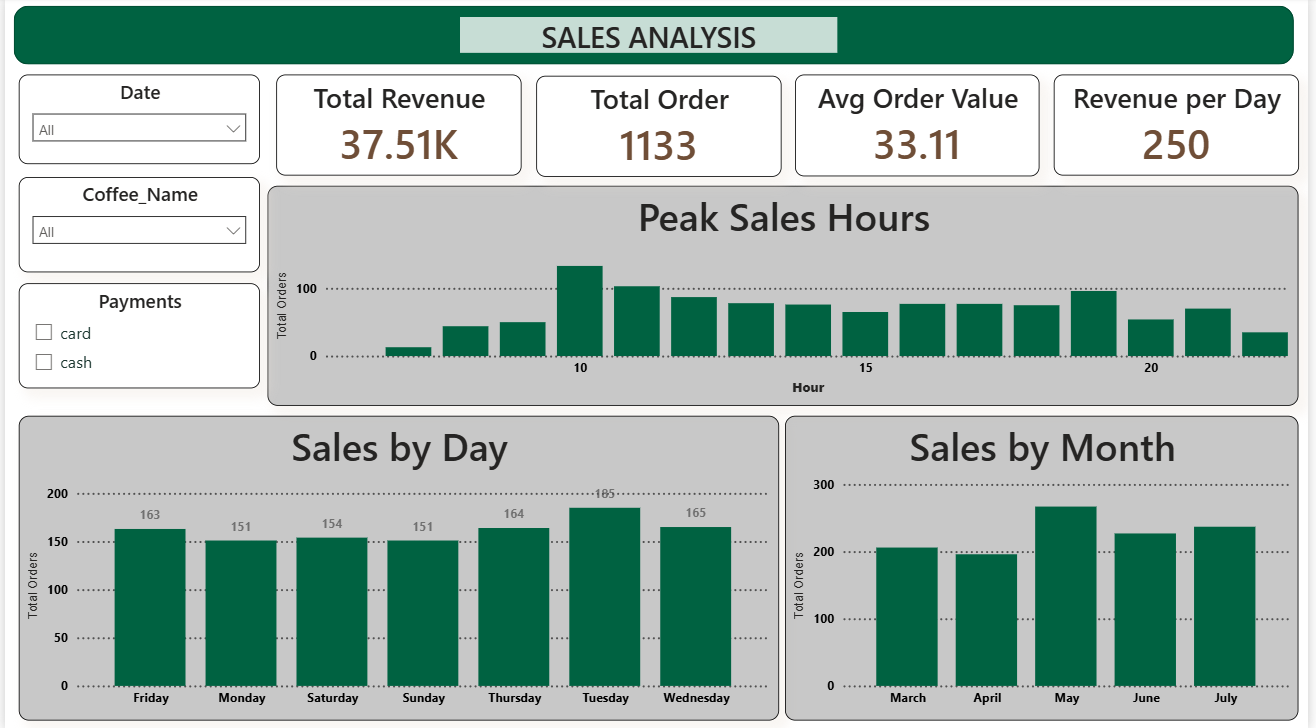

The dashboard page shown, as its layout file describes it:
{"tool":"powerbi","page":{"name":"SALES ANALYSIS","canvas":[1280,720],"ordinal":1},"visuals":[{"type":"columnChart","title":"Peak Sales Hours","fields":{"Category":["index.Hour"],"Y":["DateTable.Total Orders"]},"box":[257.7,185.3,1012.3,216],"z":0},{"type":"columnChart","title":"Sales by Day","fields":{"Y":["DateTable.Total Orders"],"Category":["index.Day Name"]},"box":[13.5,411,746,299.4],"z":1000},{"type":"columnChart","title":"Sales by Month","fields":{"Category":["index.datetime.Variation.Date Hierarchy.Month"],"Y":["DateTable.Total Orders"]},"box":[765.6,411,504.3,299.4],"z":2000},{"type":"card","title":"Total Revenue","fields":{"Values":["DateTable.Total Revenue"]},"box":[266.5,76.1,240.5,99.4],"z":3000},{"type":"card","title":"Total Order","fields":{"Values":["DateTable.Total Orders"]},"box":[521.7,77.3,240.5,99.4],"z":4000},{"type":"card","title":"Avg Order Value","fields":{"Values":["DateTable.Avg Order Value"]},"box":[775.7,76.1,240,100],"z":5000},{"type":"card","title":"Revenue per Day","fields":{"Values":["DateTable.Revenue per Day"]},"box":[1029.5,76.1,240.5,99.4],"z":6000},{"type":"slicer","title":"Date","fields":{"Values":["DateTable.Date"]},"box":[13.5,76.1,236.8,88.3],"z":7000},{"type":"slicer","title":"Coffee_Name","fields":{"Values":["index.coffee_name"]},"box":[13.5,176.7,236.8,93.3],"z":8000},{"type":"slicer","title":"Payments","fields":{"Values":["index.cash_type"]},"box":[13.5,281,236.8,103.1],"z":9000},{"type":"shape","box":[8.6,8.6,1256.4,57.7],"z":10000},{"type":"textbox","title":"SALES ANALYSIS","box":[446.6,19.6,370.6,35.6],"z":11000}]}

Visuals, with their boxes in screenshot pixels (x1, y1, x2, y2), scaled from the page's 1280x720 canvas onto the 1316x728 screenshot:
"Peak Sales Hours" columnChart: (265, 187, 1306, 406)
"Sales by Day" columnChart: (14, 416, 781, 718)
"Sales by Month" columnChart: (787, 416, 1306, 718)
"Total Revenue" card: (274, 77, 521, 177)
"Total Order" card: (536, 78, 784, 179)
"Avg Order Value" card: (798, 77, 1044, 178)
"Revenue per Day" card: (1058, 77, 1306, 177)
"Date" slicer: (14, 77, 257, 166)
"Coffee_Name" slicer: (14, 179, 257, 273)
"Payments" slicer: (14, 284, 257, 388)
shape: (9, 9, 1301, 67)
"SALES ANALYSIS" textbox: (459, 20, 840, 56)
